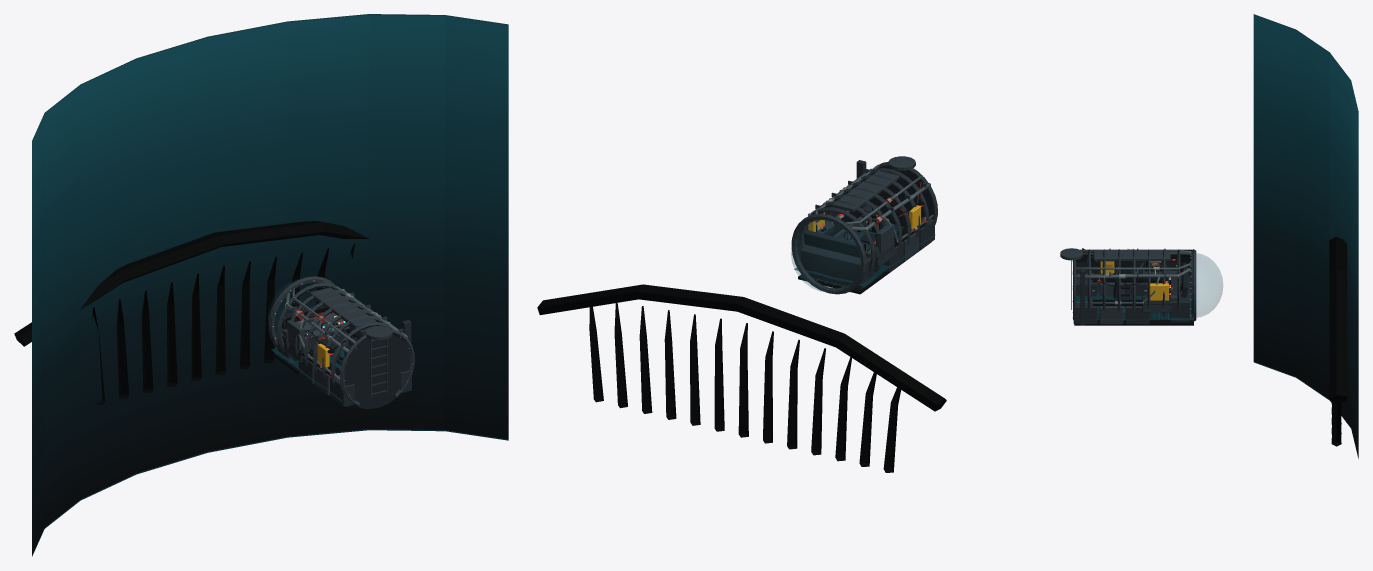
Rendered from cockpit.glb.
The picture shows the model from 3 angles, left to right: view 1: azimuth 30°, elevation 25°; view 2: azimuth 150°, elevation 25°; view 3: azimuth 270°, elevation 25°; orthographic projection. The views are drawn at different scales.
Visible parts, largest first — view 1: outside_water, cabin_shell, console, foreground; view 2: outside_water, cabin_shell, viewport_glass, console, foreground; view 3: outside_water, cabin_shell, console, viewport_glass, foreground, water_surface, pipe_2.
Part boxes in pixels (<box>): outside_water: <box>14,14,508,556</box>; cabin_shell: <box>268,276,414,409</box>; console: <box>277,305,368,363</box>; foreground: <box>310,309,411,397</box>; outside_water: <box>537,284,946,472</box>; cabin_shell: <box>791,162,937,294</box>; viewport_glass: <box>791,219,860,292</box>; console: <box>800,221,895,288</box>; foreground: <box>823,156,922,229</box>; outside_water: <box>1253,14,1358,458</box>; cabin_shell: <box>1072,249,1196,325</box>; console: <box>1142,263,1189,322</box>; viewport_glass: <box>1196,253,1222,317</box>; foreground: <box>1060,248,1145,325</box>; water_surface: <box>1074,293,1193,320</box>; pipe_2: <box>1074,268,1191,278</box>.
Size of the model in its own units: 16.78 by 14 by 10.86.
Materials: 30 (10 with a texture image).
